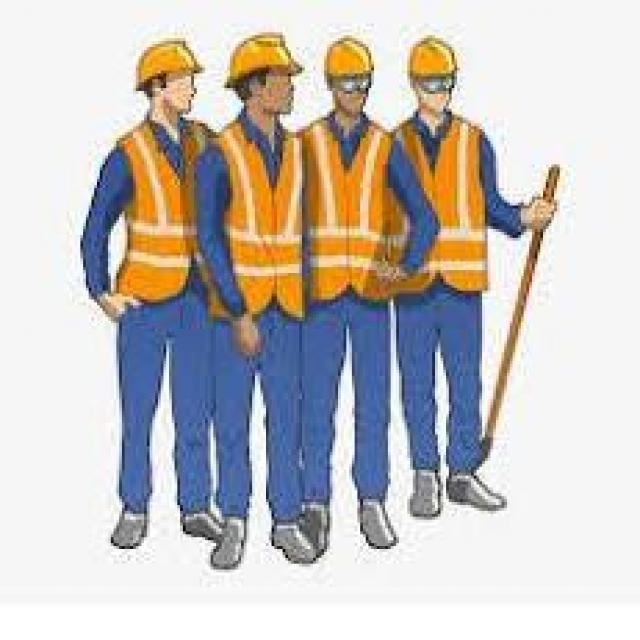Reflective-Jacket: (399, 114, 493, 294), (305, 124, 396, 296), (114, 126, 200, 302), (219, 130, 305, 302)
Safety-Helmet: (130, 38, 202, 88), (222, 32, 294, 82), (402, 32, 462, 82), (321, 35, 377, 82)
